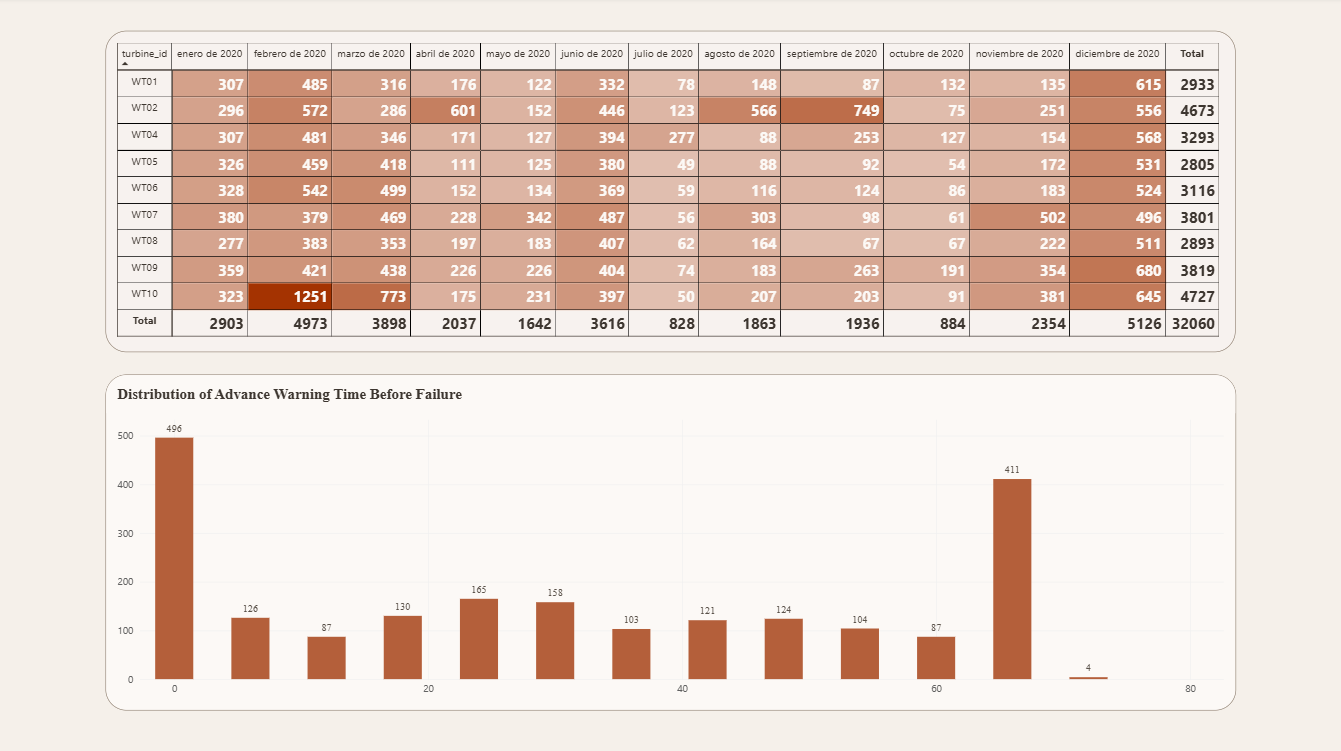

The dashboard page shown, as its layout file describes it:
{"tool":"powerbi","page":{"name":"Página 2","canvas":[1920,1080],"ordinal":1},"visuals":[{"type":"pivotTable","fields":{"Columns":["turbine_monthly_summary.month"],"Rows":["turbine_monthly_summary.turbine_id"],"Values":["Sum(turbine_monthly_summary.anomaly_count)"]},"box":[153.6,48.2,1614.3,458.9],"z":0},{"type":"clusteredColumnChart","title":"Distribution of Advance Warning Time Before Failure","fields":{"Category":["lead_times.lead_time_bins"],"Y":["CountNonNull(lead_times.turbine_id)"]},"box":[153.6,539.3,1615,480],"z":1}]}

Visuals, with their boxes in screenshot pixels (x1, y1, x2, y2), scaled from the page's 1920x1080 canvas onto the 1341x751 screenshot:
pivotTable - turbine_monthly_summary.month x turbine_monthly_summary.turbine_id: <region>107, 34, 1235, 353</region>
"Distribution of Advance Warning Time Before Failure" clusteredColumnChart: <region>107, 375, 1235, 709</region>
